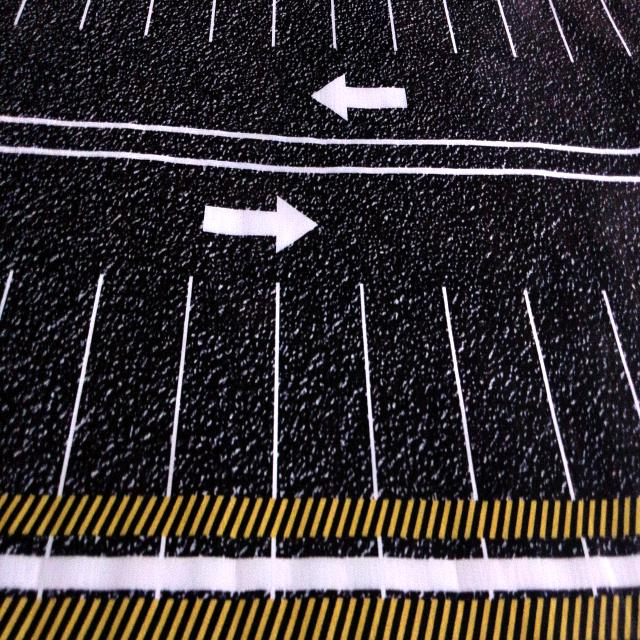slots: (65, 265, 188, 495), (448, 280, 569, 498), (530, 281, 640, 498), (0, 248, 97, 494), (364, 280, 472, 499), (172, 278, 275, 495), (279, 273, 372, 497)
